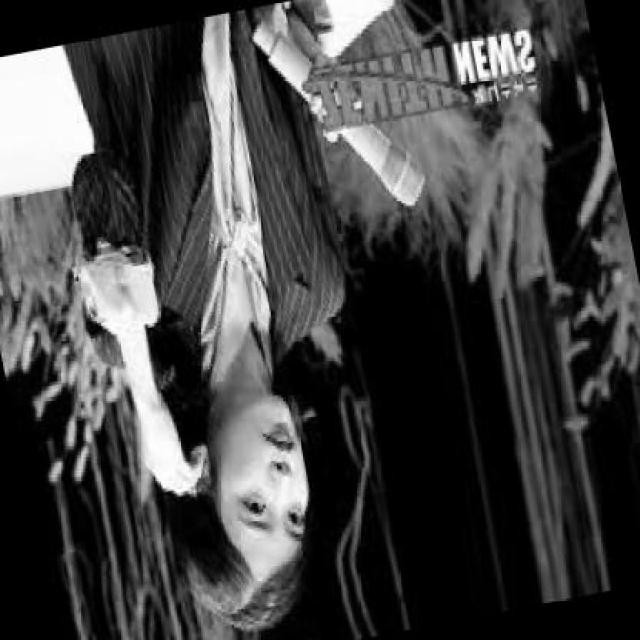earphone: (199, 448, 212, 492)
